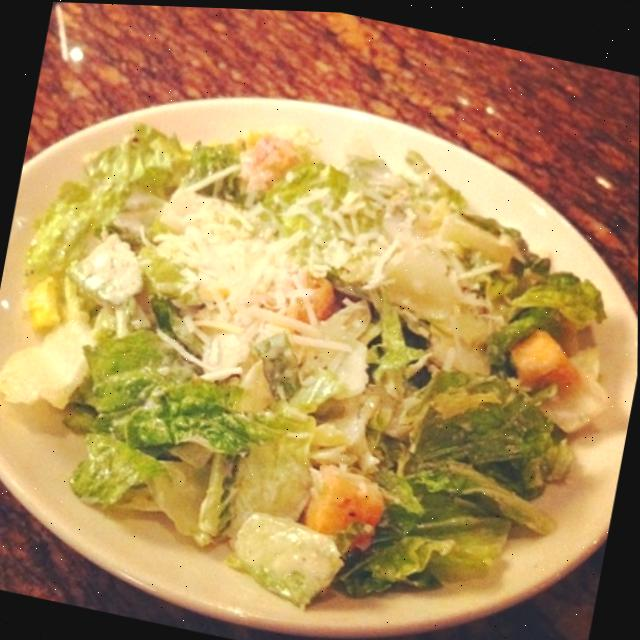蔬菜料理: (0, 34, 640, 640)
